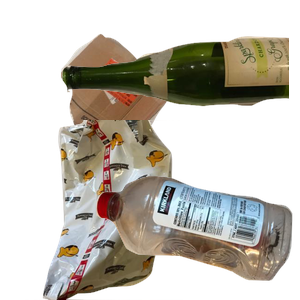cardboard: (58, 31, 222, 188)
glass: (60, 34, 300, 133)
plastic: (93, 173, 300, 300)
trash: (25, 120, 198, 300)
